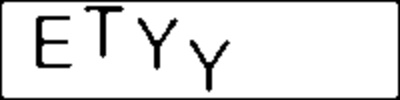E: (32, 12, 76, 73)
T: (81, 2, 127, 61)
Y: (185, 36, 235, 95), (135, 14, 180, 74)
